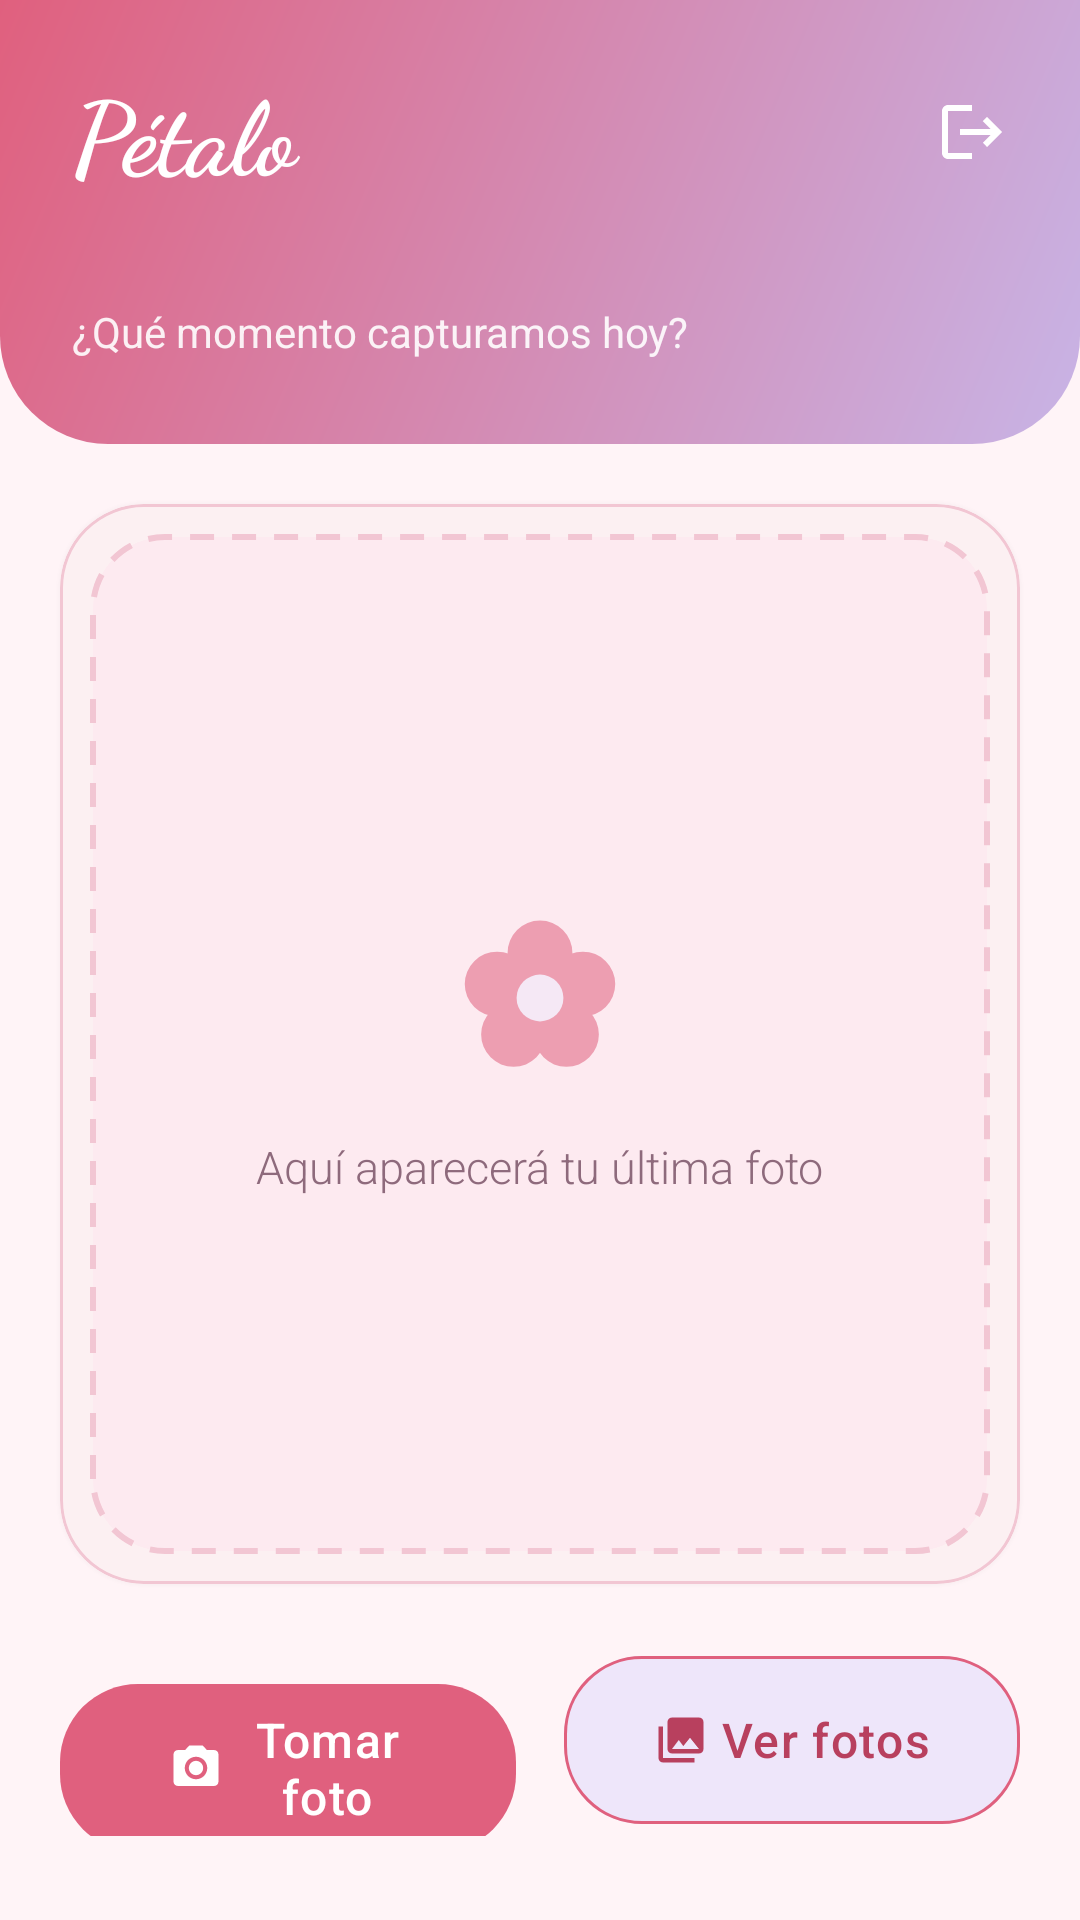

Icon bounding boxes for this 1080 × 1920 phone screenshot, format BBox(x1, y1, x2, y2):
Cerrar sesión: BBox(942, 105, 1002, 159)
flor: BBox(465, 920, 615, 1067)
